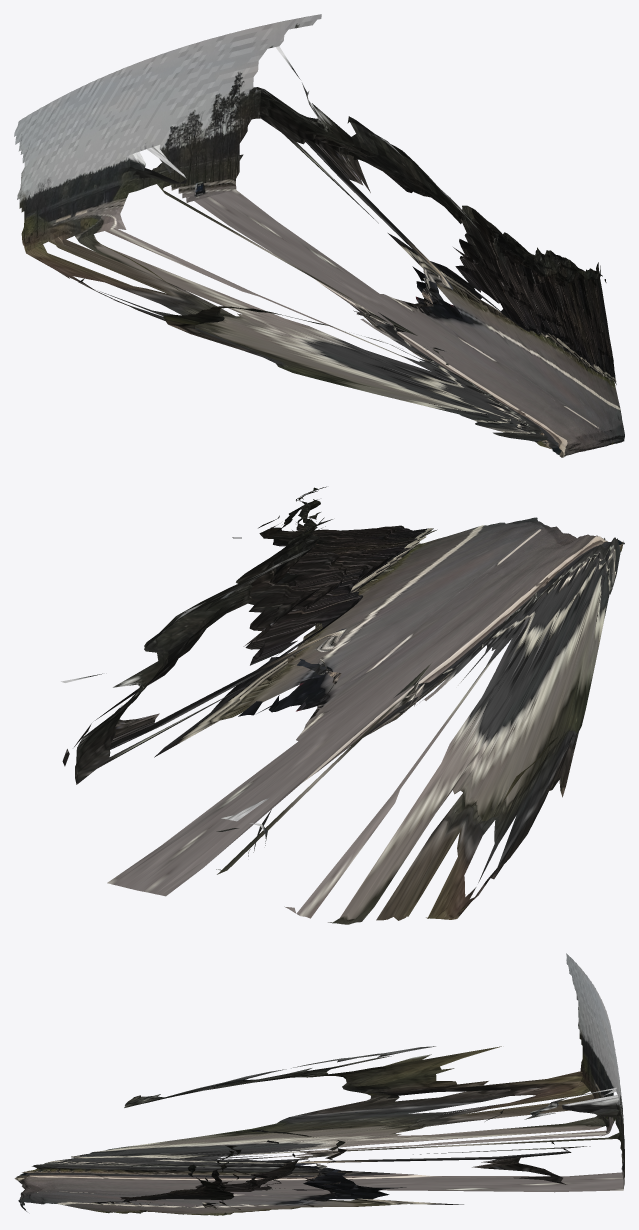
3 views of the same model, one above another, from view 1: azimuth 30°, elevation 25°; view 2: azimuth 150°, elevation 25°; view 3: azimuth 270°, elevation 25° (orthographic). The views are drawn at different scales.
Parts seen in each view (by area): view 1: defaultobject; view 2: defaultobject; view 3: defaultobject.
Boxes of the visible parts, left/top/right/bottom form: defaultobject: left=14, top=14, right=624, bottom=457; defaultobject: left=61, top=486, right=624, bottom=924; defaultobject: left=14, top=953, right=624, bottom=1215.
Bounding box in the file's own units: 28.2 × 11.84 × 44.67.
Materials: 1 (1 with a texture image).
